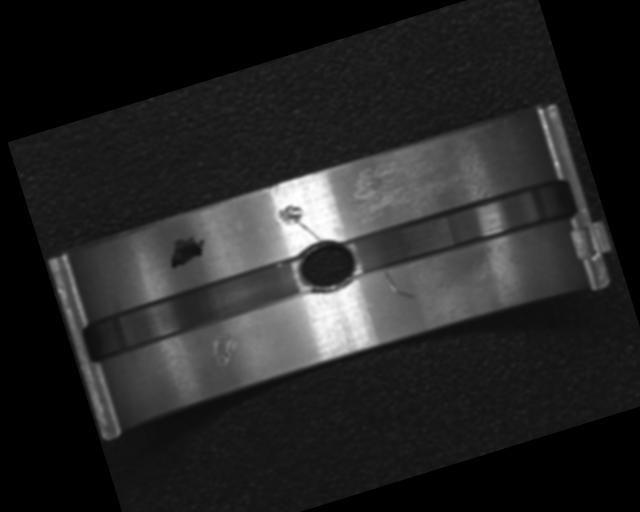blot: (163, 232, 210, 270)
bruise: (207, 330, 245, 373), (274, 201, 308, 229)
gap: (80, 253, 311, 366), (346, 172, 578, 284)
hole: (290, 230, 364, 301)
nick: (383, 265, 416, 305), (293, 213, 324, 248)
scratch: (347, 142, 470, 227)
